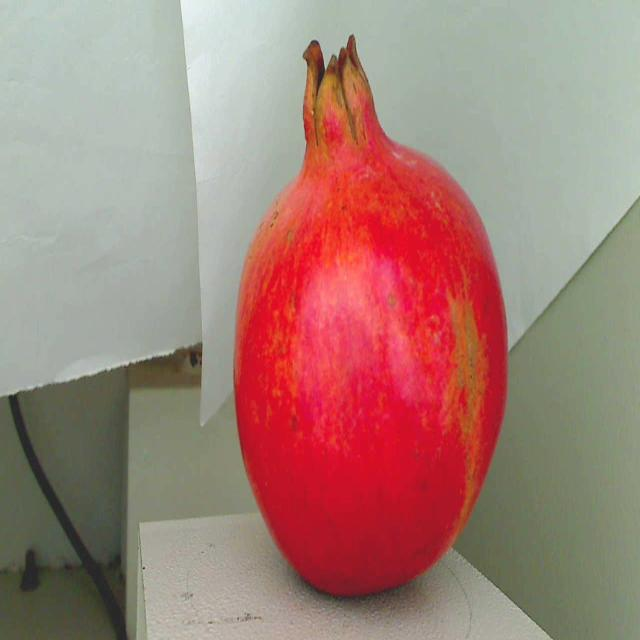pomegranate: (219, 18, 524, 605)
